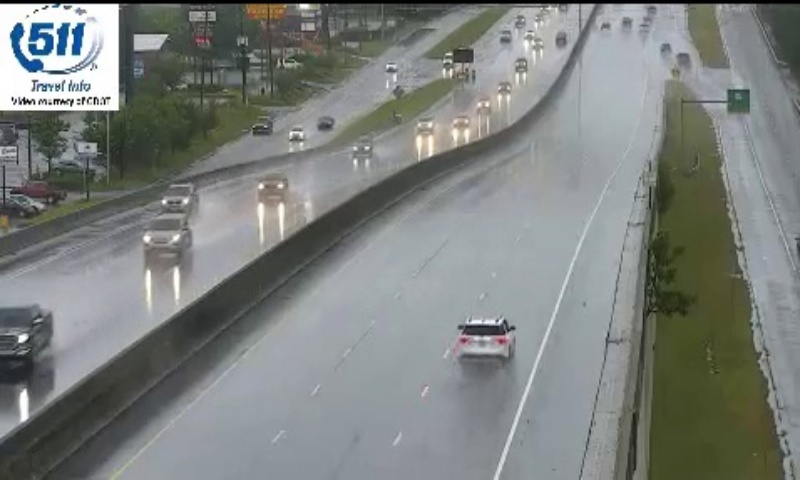car: (458, 318, 513, 360)
